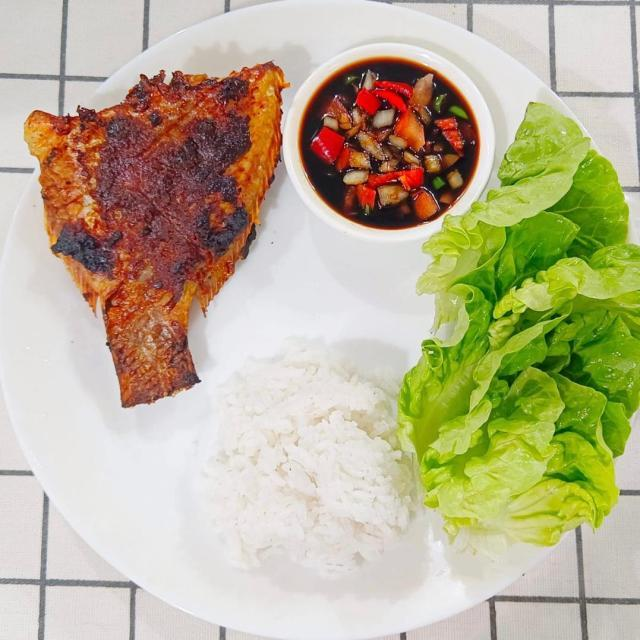Fish: (22, 59, 286, 409)
Plate: (0, 168, 551, 639)
Rice: (204, 360, 411, 575)
Vegetables: (395, 104, 639, 576)
